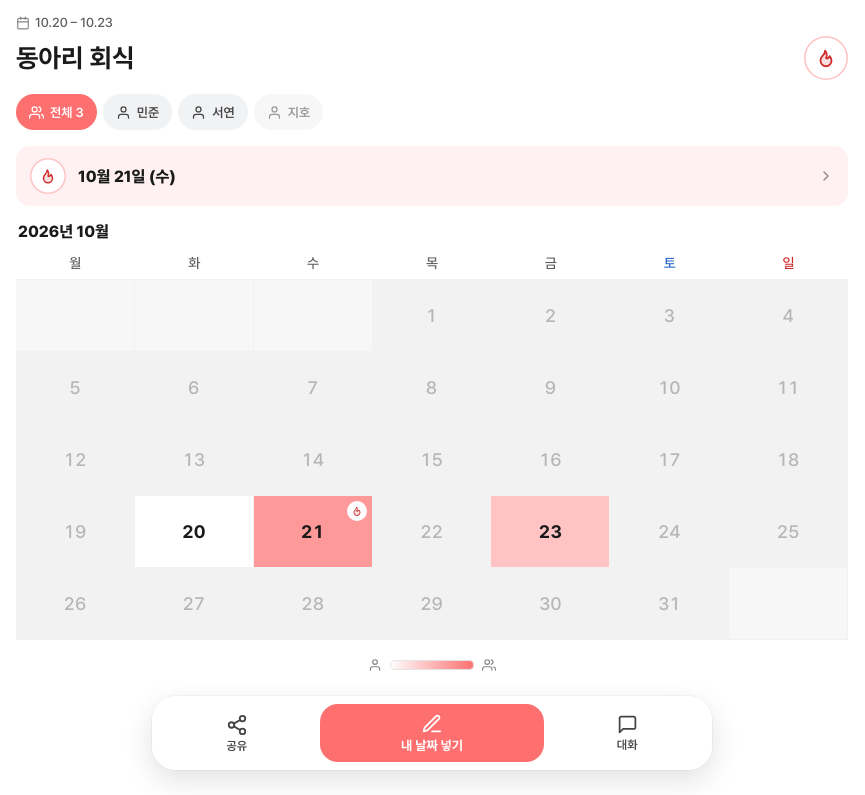
Test: 사람 고르기·실험 상태·명단 순서(Codex 1차 반영) › 여러 명을 고르면 날짜로 '모두 되는 날'만 보이고 시간 표 문구는 없다
Check: the heading "동아리 회식" is shown, box [16, 42, 134, 74]
What coordinates should you click on to do the following:
click the button with aria-label "민준. 고르기"
I would click on:
 (138, 112)
Its box is [103, 94, 172, 130].
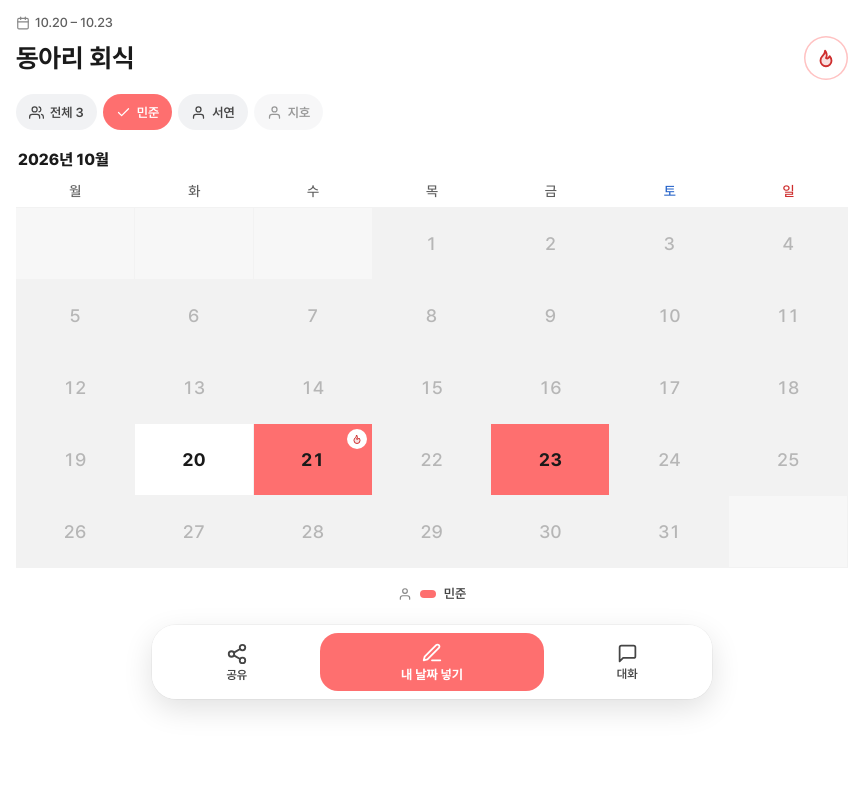
What coordinates should you click on to do the following:
click the button with aria-label "서연. 고르기"
I would click on:
 (213, 112)
Its box is [178, 94, 248, 130].
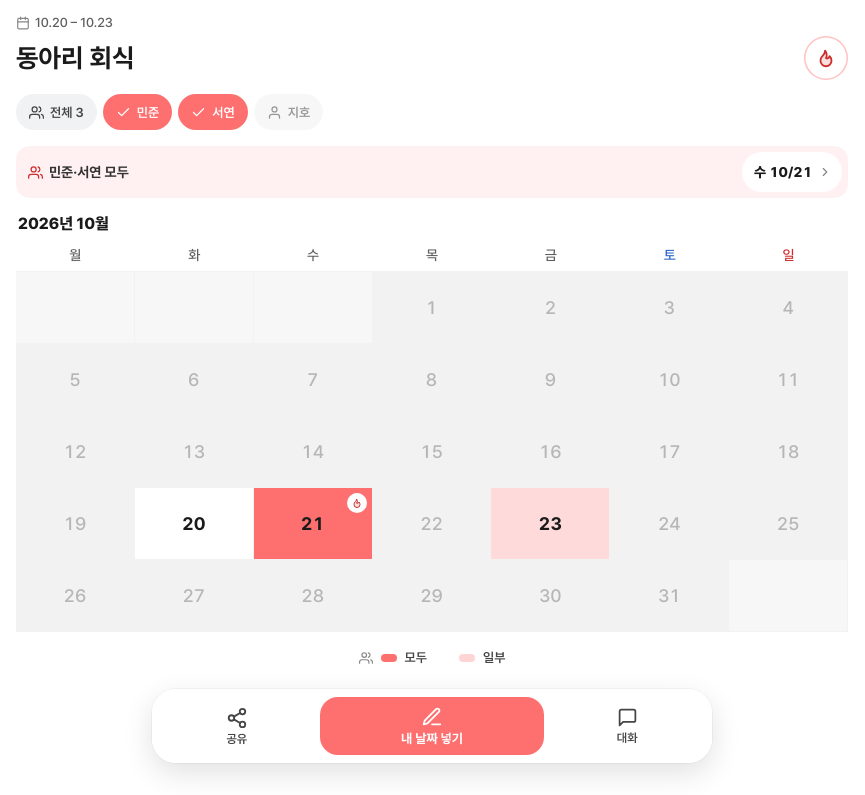
Check: the button named "민준·서연 모두 되는 날 10월 21일 (수), 모두 1일. 달력에서 보기" is shown, box [742, 152, 842, 192]
What coordinates should you click on to do the following:
click the button with aria-label "지호, 아직 날짜를 안 넣음. 고르기"
I would click on:
 (289, 112)
Its box is [254, 94, 323, 130].
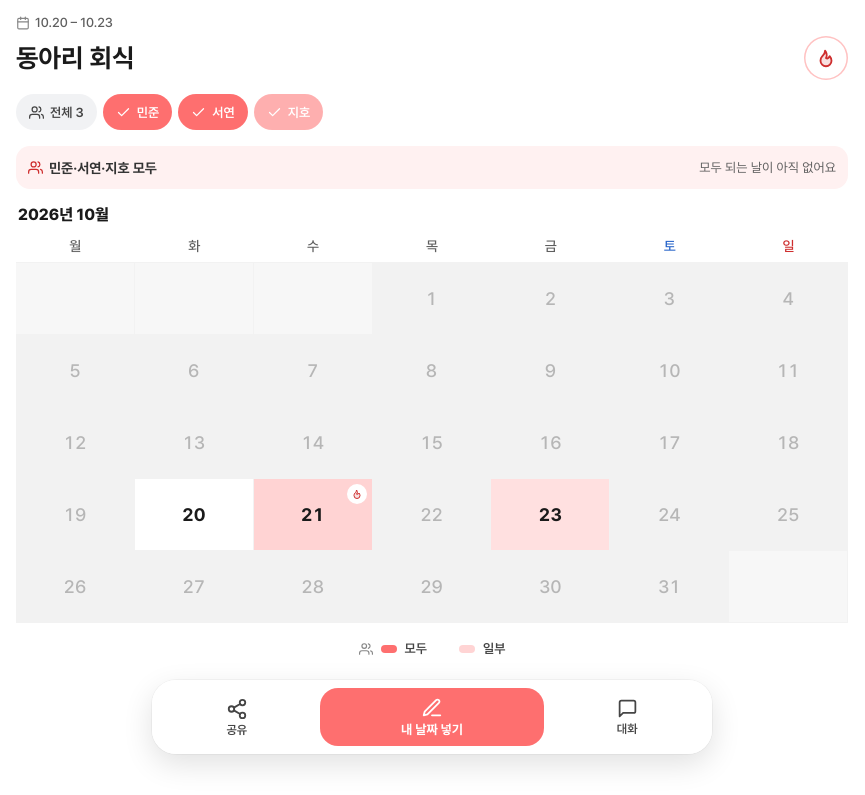
Check: the text "모두 되는 날이 아직 없어요" is shown, box [699, 160, 836, 175]
